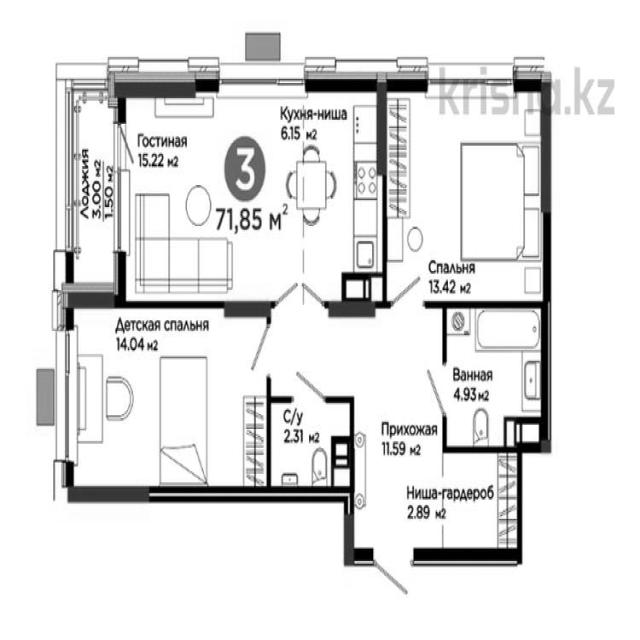balcony: (68, 75, 120, 308)
bathroom: (444, 305, 548, 448), (267, 397, 353, 500)
hallway: (268, 304, 521, 559)
living_room: (64, 305, 270, 498), (380, 71, 548, 307)
studio: (116, 68, 382, 306)
